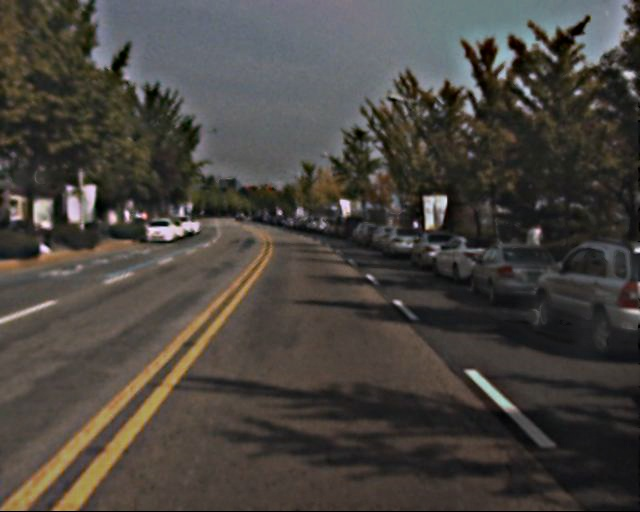person: (524, 220, 545, 272), (506, 220, 527, 272)
